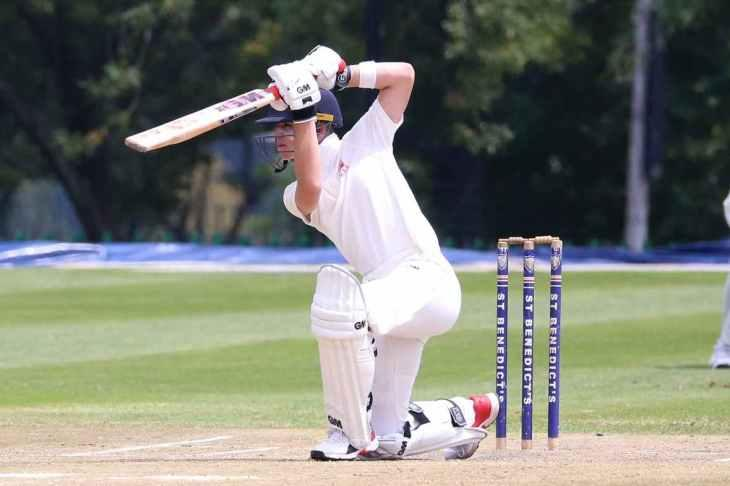batsman: (124, 43, 495, 459)
